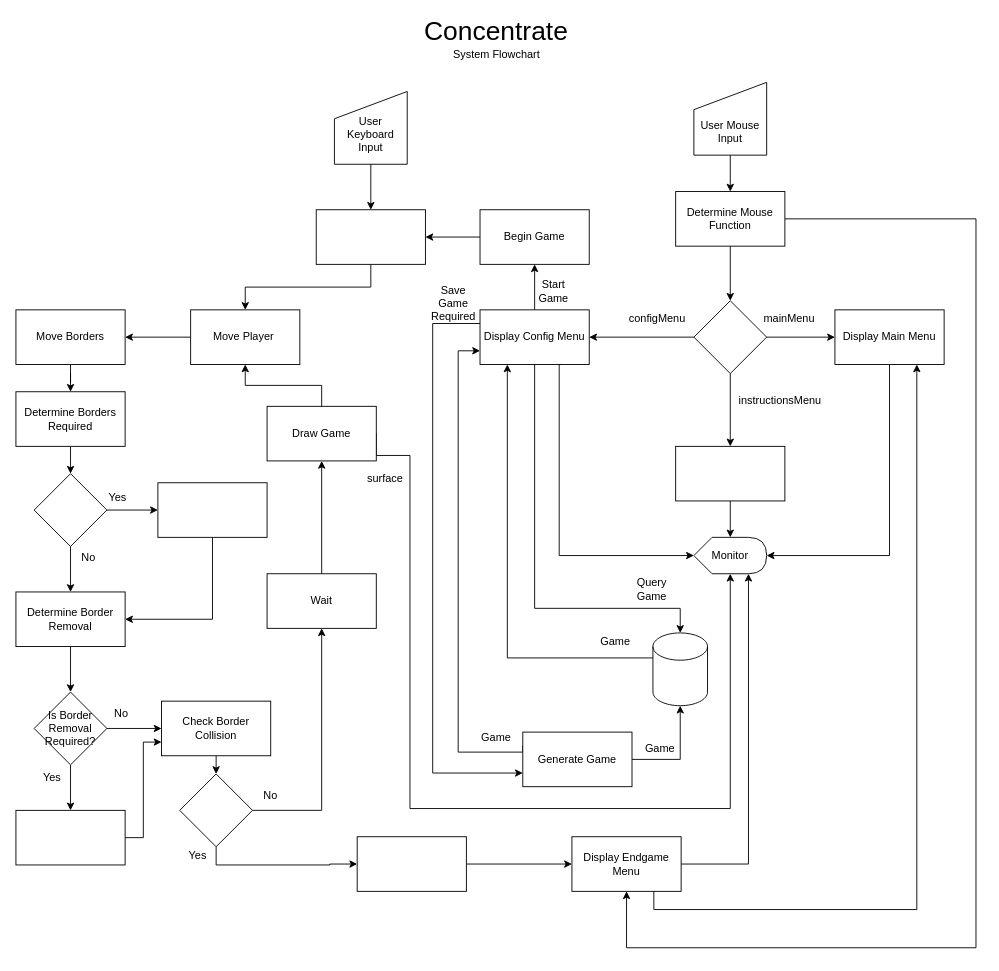
This 999x971 diagram has some shape labels left out. The shapes that lost their labels are listed below. From the top down, each one's centre as x and y in pixels, then its label:
the point at 370,236: Determine Movement DIrection
the point at 730,337: Which Menu?
the point at 730,473: Display Instructions Menu
the point at 70,509: Are Borders Required?
the point at 212,509: Add Border
the point at 680,669: Game Files
the point at 216,810: Is there a collision?
the point at 70,837: Remove Border
the point at 411,863: Handle Endgame
